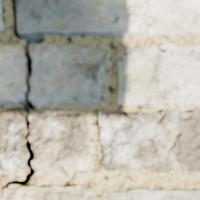brick: (16, 0, 199, 35), (100, 110, 199, 171), (116, 43, 199, 105), (0, 186, 94, 199), (108, 189, 199, 199), (0, 0, 3, 31), (99, 111, 105, 124)
broken_brick: (29, 43, 106, 172), (0, 106, 25, 172), (0, 43, 25, 103)
crack: (0, 0, 44, 197), (124, 111, 156, 147), (99, 110, 109, 130), (154, 45, 167, 53)
